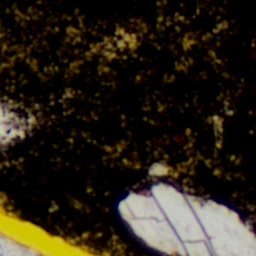cement_matrix: (0, 0, 255, 255), (150, 163, 169, 178), (121, 35, 133, 45)
cracks: (0, 203, 107, 255)
gravel_crushed_stones: (123, 187, 255, 255), (0, 104, 29, 146), (0, 234, 40, 255), (151, 164, 168, 177), (122, 36, 132, 44)
